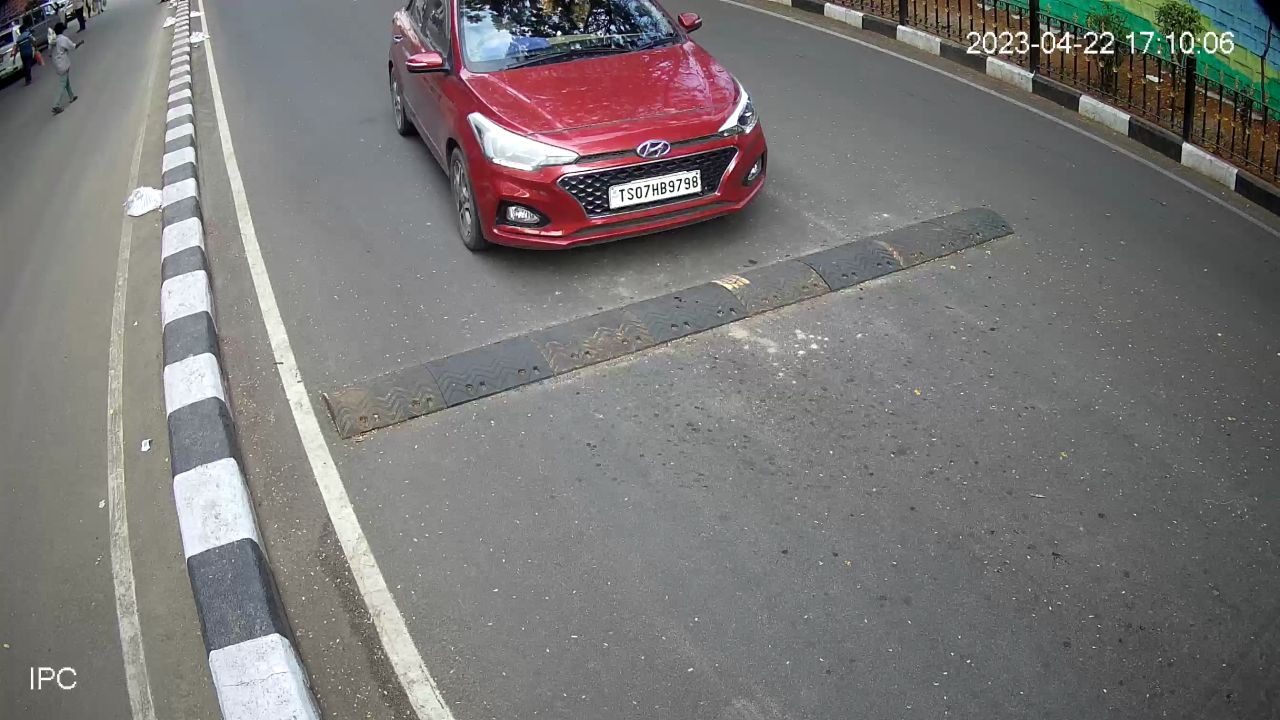license_plate: (604, 163, 705, 218)
